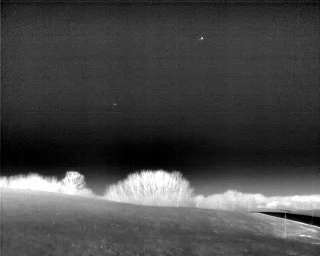BIRD: (198, 34, 206, 43)
